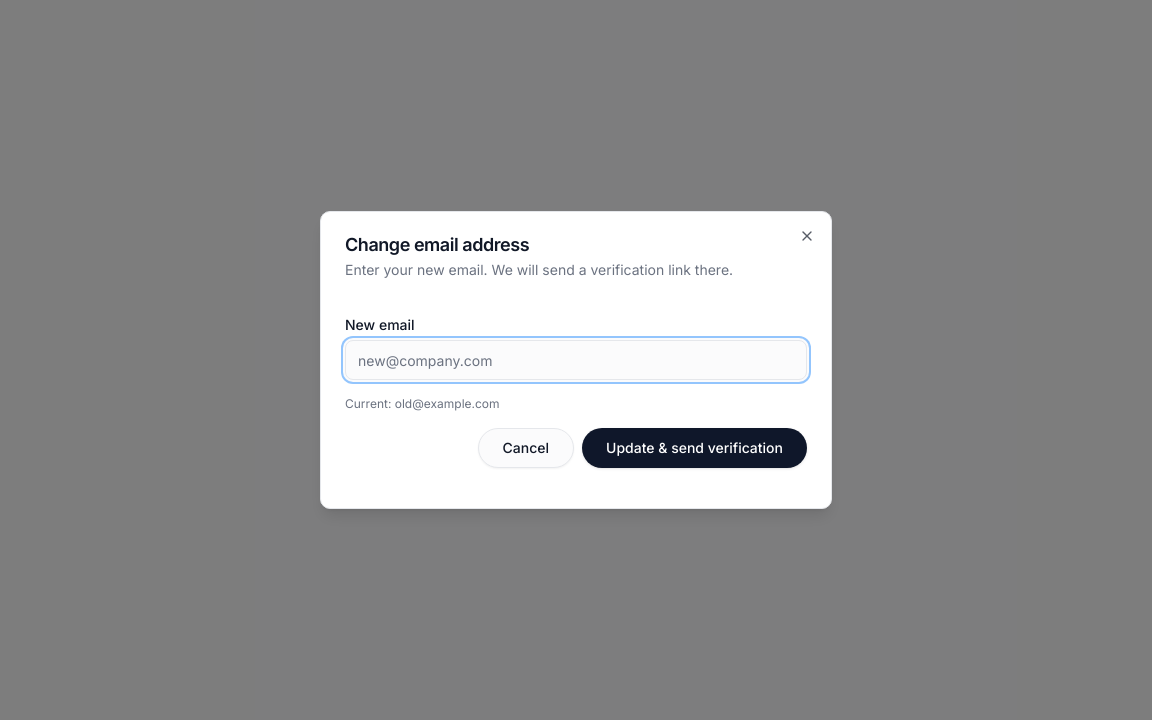
ChangeEmailModal › shows validation error for empty email
Click the button "Update & send verification" at (695, 448), box [582, 428, 807, 468]
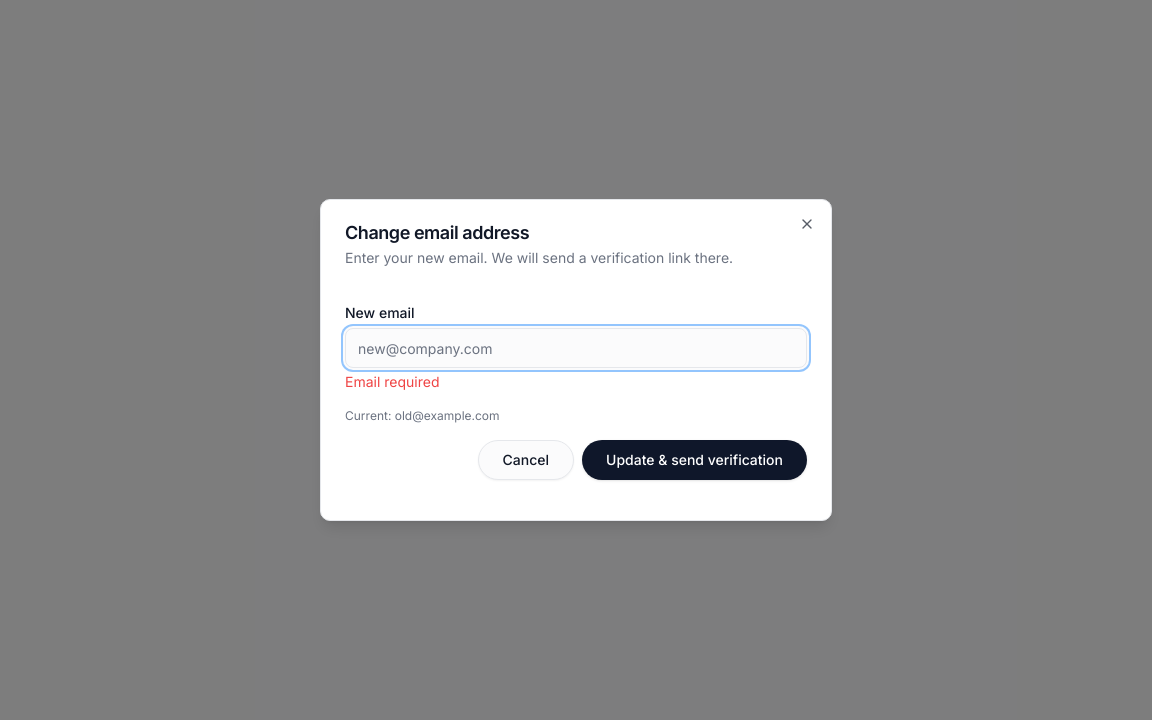
Now the text "Email required" is shown, box [345, 373, 440, 390]
